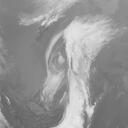cyclone: (39, 14, 95, 105)
